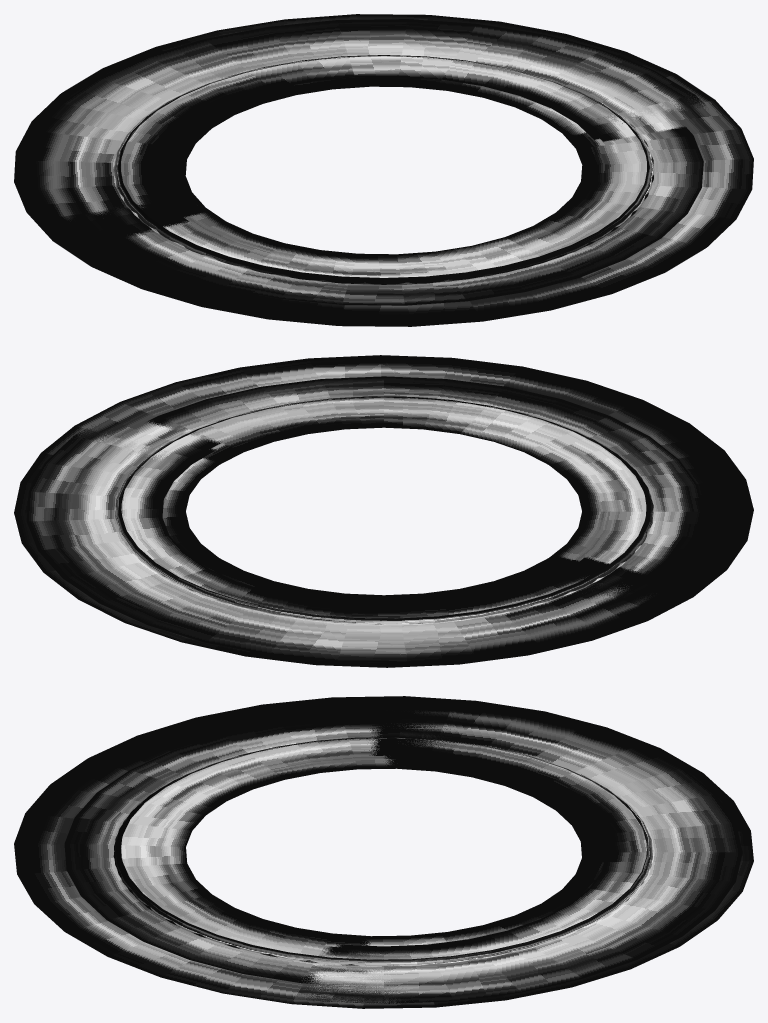
File: proj_pt_sword_scene.fbx
3 renders of one model, top to bottom at view 1: azimuth 30°, elevation 25°; view 2: azimuth 150°, elevation 25°; view 3: azimuth 270°, elevation 25°, orthographic.
Parts seen in each view (by area): view 1: horizontal_1, horizontal_4, horizontal_2, vertical, horizontal_3, vertical (1); view 2: horizontal_1, horizontal_4, horizontal_2, vertical, horizontal_3, vertical (1); view 3: horizontal_1, horizontal_4, horizontal_2, vertical, horizontal_3, vertical (1).
Boxes of the visible parts, x1,y1,x2,y2 form: horizontal_1: (25, 19, 705, 224); horizontal_4: (111, 84, 703, 305); horizontal_2: (14, 14, 753, 326); vertical: (113, 55, 654, 284); horizontal_3: (162, 76, 585, 217); vertical (1): (114, 56, 653, 284); horizontal_1: (26, 425, 673, 662); horizontal_4: (147, 376, 703, 597); horizontal_2: (14, 355, 753, 667); vertical: (114, 396, 653, 625); horizontal_3: (162, 458, 572, 604); vertical (1): (114, 397, 653, 625); horizontal_1: (297, 702, 742, 1003); horizontal_4: (64, 717, 586, 983); horizontal_2: (14, 696, 753, 1008); vertical: (114, 737, 653, 966); horizontal_3: (362, 758, 606, 946); vertical (1): (113, 738, 654, 966).
Bounding box in the file's own units: 4.99 × 0.06 × 4.99.
Materials: 2 (2 with a texture image).
